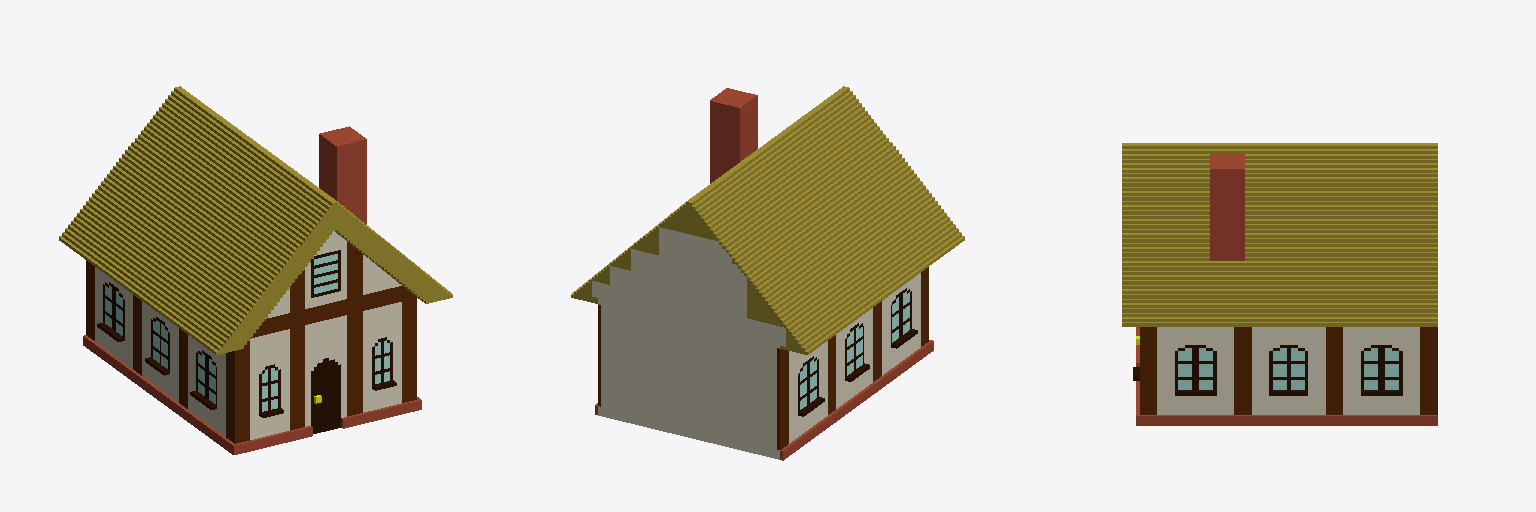
The picture shows the model from 3 angles: view 1: azimuth 30°, elevation 25°; view 2: azimuth 150°, elevation 25°; view 3: azimuth 270°, elevation 25°; orthographic projection.
Visible parts, largest first — view 1: object 1; view 2: object 1; view 3: object 1.
Part boxes in pixels (left/top/right/bottom): object 1: left=59, top=86, right=452, bottom=454; object 1: left=571, top=86, right=964, bottom=460; object 1: left=1122, top=143, right=1437, bottom=425.
Bounding box in the file's own units: 7.8 × 7.8 × 9.
Materials: 1 (1 with a texture image).